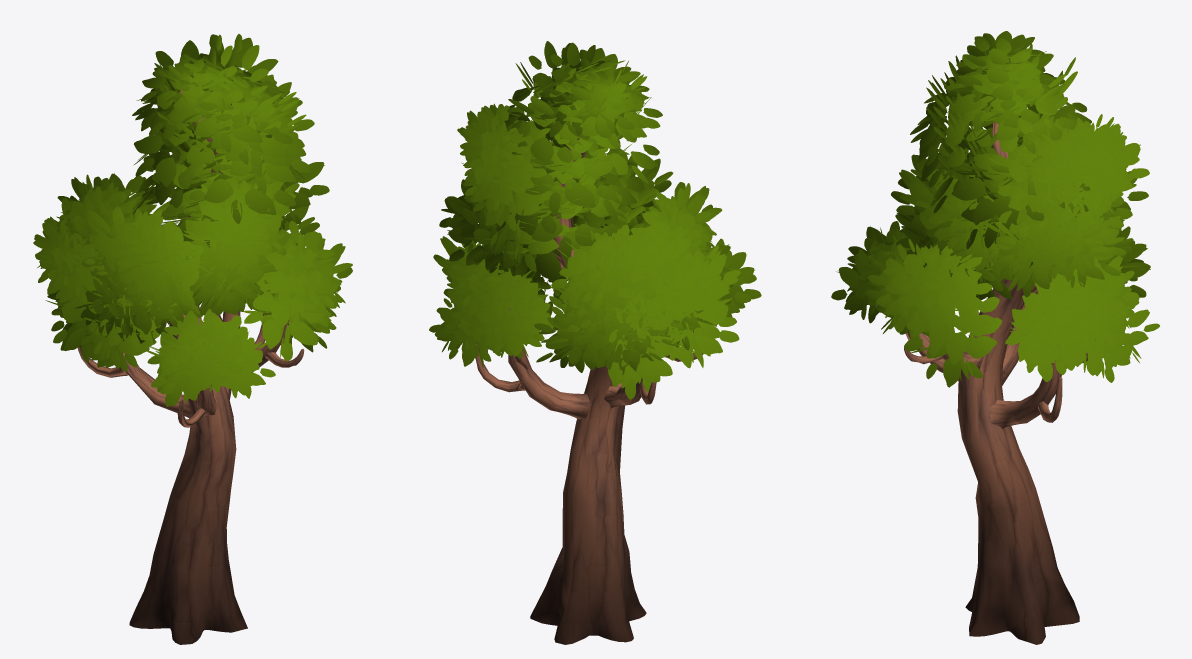
The model's file is n_commontree_2.glb.
The picture shows the model from 3 angles, left to right: view 1: azimuth 30°, elevation 25°; view 2: azimuth 150°, elevation 25°; view 3: azimuth 270°, elevation 25°; orthographic projection. The views are drawn at different scales.
Visible parts, largest first — view 1: CommonTree_2; view 2: CommonTree_2; view 3: CommonTree_2.
Boxes of the visible parts, box(x1,y1,x2,y2) form: CommonTree_2: box(33, 34, 352, 644); CommonTree_2: box(429, 41, 761, 644); CommonTree_2: box(831, 31, 1159, 644).
Bounding box in the file's own units: 4.46 × 7.64 × 4.28.
2 materials, 2 textured.
